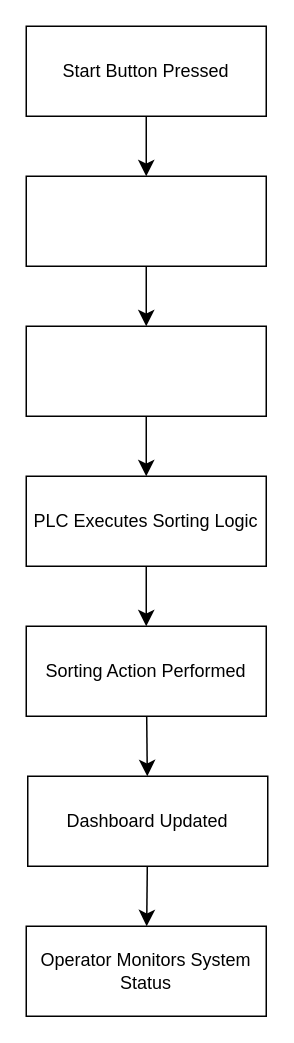
Image size: 294x1043. Some labels were removed from this diagram. The shapes that lost their labels are listed below. From the top down, each one's centre as x and y in pixels, then its label:
At pixel 145 220: "Conveyor Starts".
At pixel 145 370: "Object Detected by Sensor".
